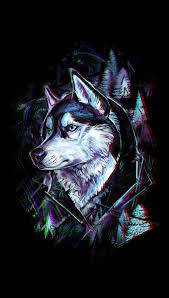Lobo: (30, 69, 142, 202)
